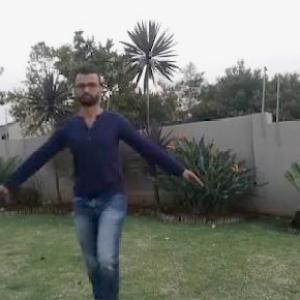land: (40, 91, 175, 257)
